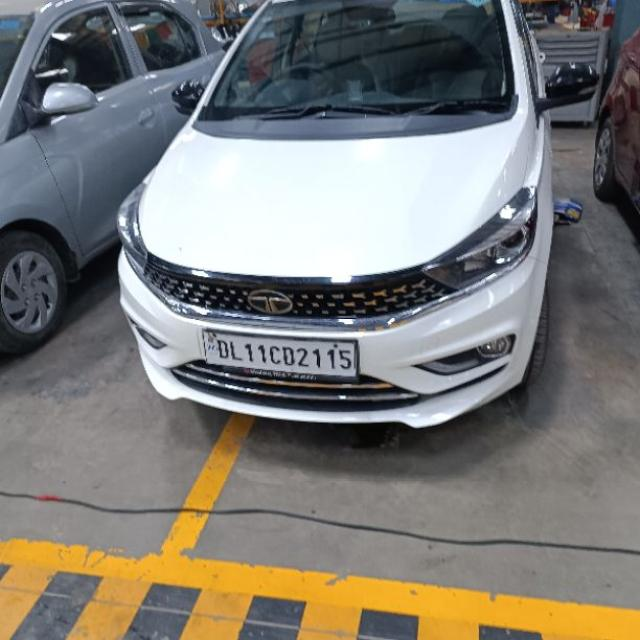license_plate: (196, 326, 360, 382)
